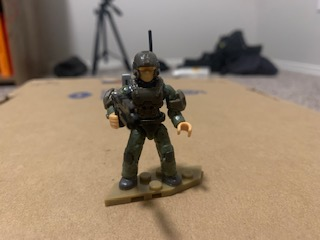soldier: (98, 29, 209, 211)
